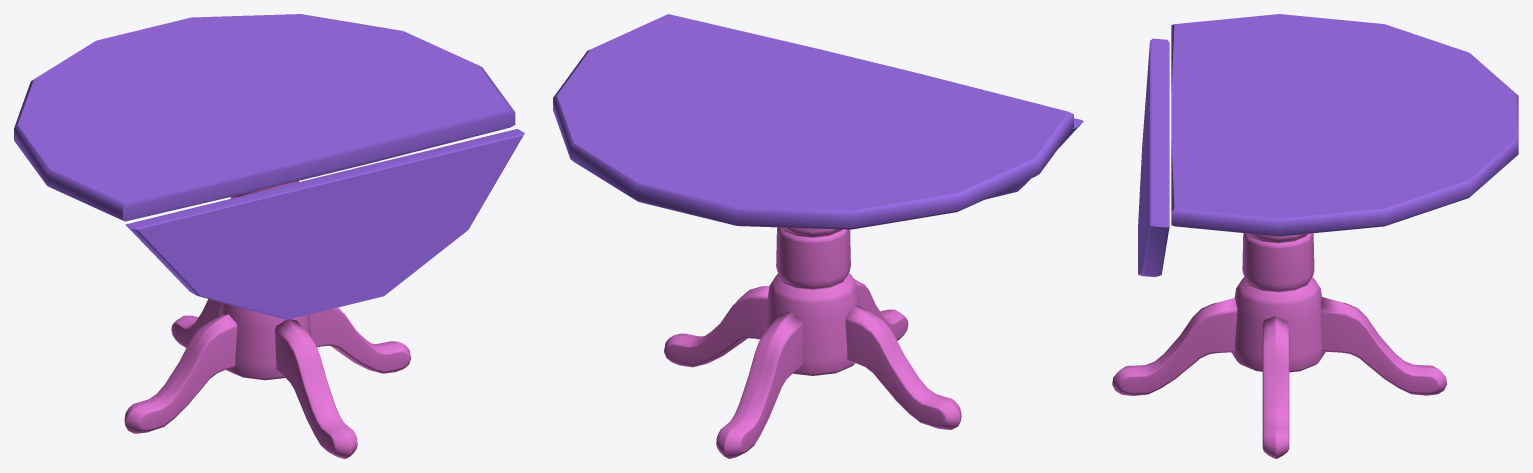
File: Friday_AbbyTable.fbx
3 renders of one model, left to right at view 1: azimuth 30°, elevation 25°; view 2: azimuth 150°, elevation 25°; view 3: azimuth 270°, elevation 25°, orthographic. The views are drawn at different scales.
Visible parts, largest first — view 1: TableTop, Table; view 2: TableTop, Table; view 3: TableTop, Table.
Boxes of the visible parts, x1,y1,x2,y2 form: TableTop: (14,14,524,319); Table: (124,181,411,458); TableTop: (553,14,1083,229); Table: (664,227,961,458); TableTop: (1138,14,1518,277); Table: (1112,233,1446,458).
Size of the model in its own units: 254 by 158 by 209.
